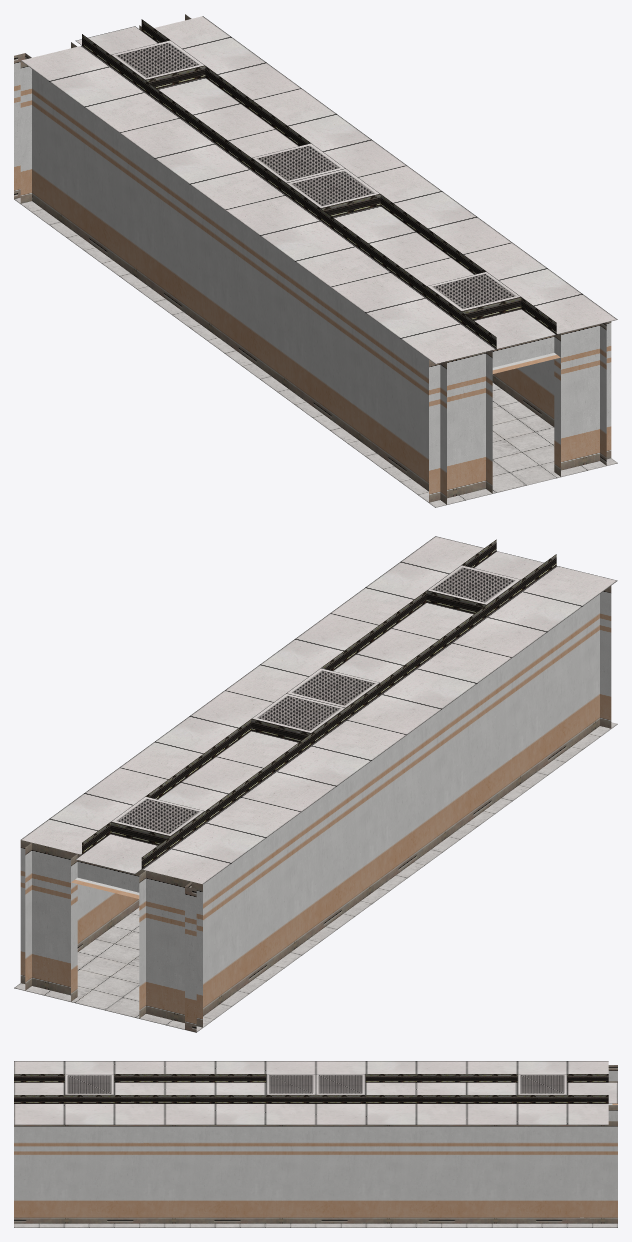
File: RZ_room2.glb
3 renders of one model, top to bottom at view 1: azimuth 30°, elevation 25°; view 2: azimuth 150°, elevation 25°; view 3: azimuth 270°, elevation 25°, orthographic. The views are drawn at different scales.
Visible parts, largest first — view 1: OZ_room2.001; view 2: OZ_room2.001; view 3: OZ_room2.001.
Boxes of the visible parts, x1=… form: OZ_room2.001: x1=14, y1=14, x2=617, y2=507; OZ_room2.001: x1=14, y1=536, x2=617, y2=1032; OZ_room2.001: x1=14, y1=1061, x2=617, y2=1227.
Bounding box in the file's own units: 5.12 × 4.17 × 20.48.
Materials: 6 (6 with a texture image).
